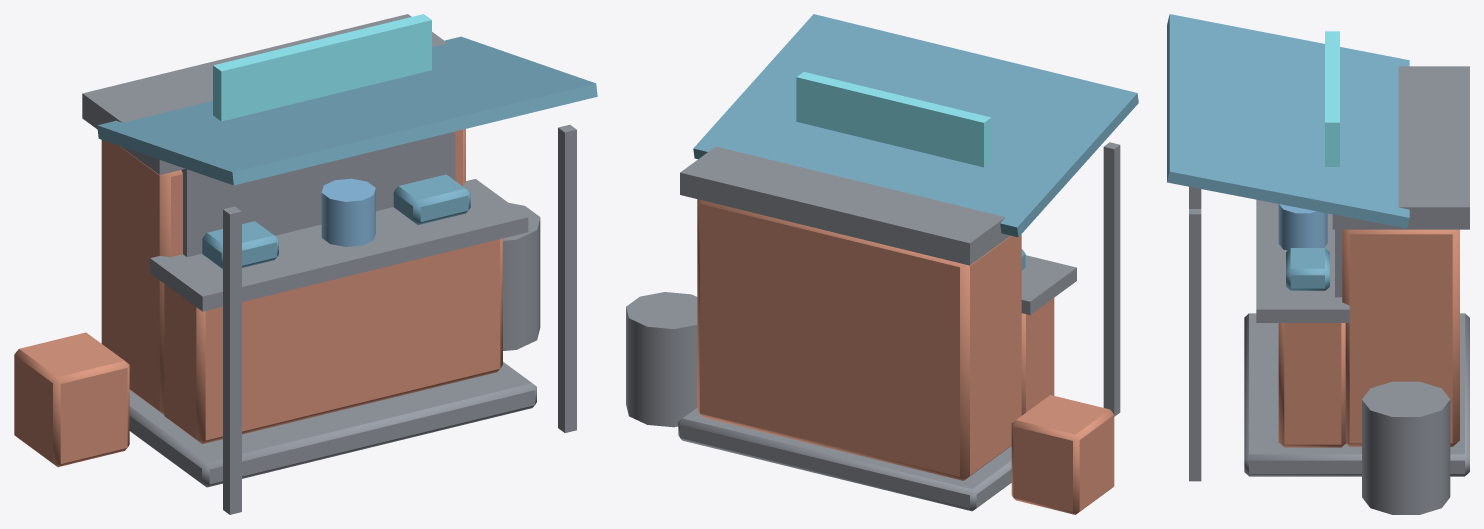
File: CallePuesto.fbx
3 views of the same model, side by side, from view 1: azimuth 30°, elevation 25°; view 2: azimuth 150°, elevation 25°; view 3: azimuth 270°, elevation 25° (orthographic). The views are drawn at different scales.
Parts seen in each view (by area): view 1: CallePuesto_Base_Cuerpo, CallePuesto_Base_Metal, CallePuesto_Base_Toldo, CallePuesto_Base_Luz, CallePuesto_Base_Cristal; view 2: CallePuesto_Base_Cuerpo, CallePuesto_Base_Metal, CallePuesto_Base_Toldo, CallePuesto_Base_Luz; view 3: CallePuesto_Base_Metal, CallePuesto_Base_Toldo, CallePuesto_Base_Cuerpo, CallePuesto_Base_Luz, CallePuesto_Base_Cristal.
Part boxes in pixels (x1=…): CallePuesto_Base_Cuerpo: x1=14, y1=129, x2=502, y2=466; CallePuesto_Base_Metal: x1=82, y1=14, x2=576, y2=514; CallePuesto_Base_Toldo: x1=97, y1=36, x2=597, y2=268; CallePuesto_Base_Luz: x1=213, y1=14, x2=431, y2=121; CallePuesto_Base_Cristal: x1=321, y1=178, x2=375, y2=246; CallePuesto_Base_Cuerpo: x1=697, y1=199, x2=1114, y2=514; CallePuesto_Base_Metal: x1=626, y1=142, x2=1120, y2=511; CallePuesto_Base_Toldo: x1=693, y1=14, x2=1138, y2=270; CallePuesto_Base_Luz: x1=796, y1=72, x2=991, y2=167; CallePuesto_Base_Metal: x1=1189, y1=66, x2=1469, y2=514; CallePuesto_Base_Toldo: x1=1167, y1=14, x2=1409, y2=290; CallePuesto_Base_Cuerpo: x1=1278, y1=229, x2=1459, y2=447; CallePuesto_Base_Luz: x1=1325, y1=31, x2=1339, y2=166; CallePuesto_Base_Cristal: x1=1278, y1=204, x2=1327, y2=250.
Bounding box in the file's own units: 1066 × 740 × 617.
